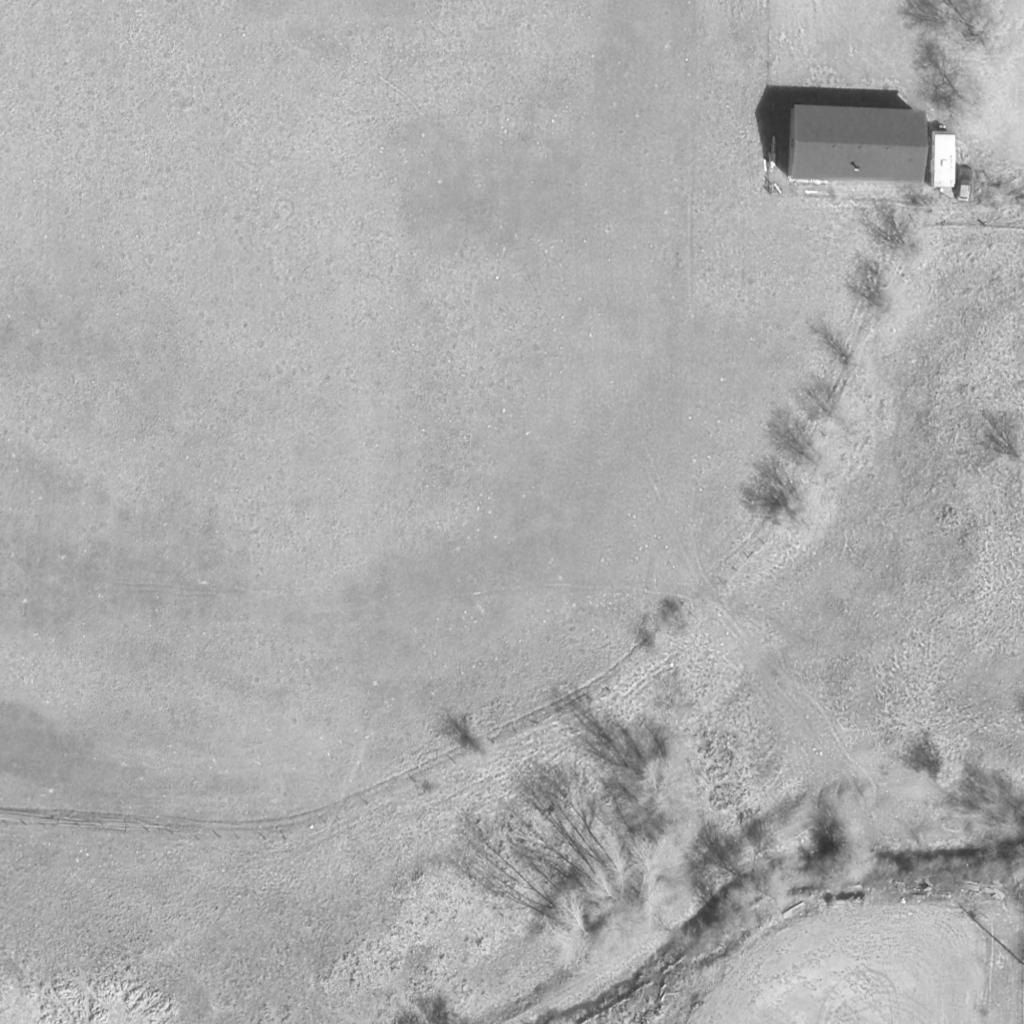vehicle: (930, 132, 956, 188), (956, 168, 976, 204)
